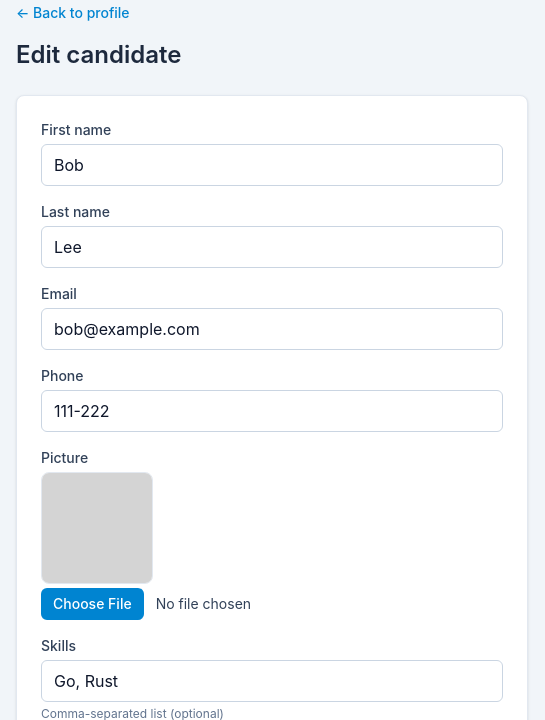
Scenario: EditCandidate › shows Zod validation for invalid email
Expected: the field showing "Bob" is shown, [41,144,503,186]
Step 1. Replace the text in the field labelled "Email" with "bad" → (272, 329), box [41,308,503,350]
(page scrolled)
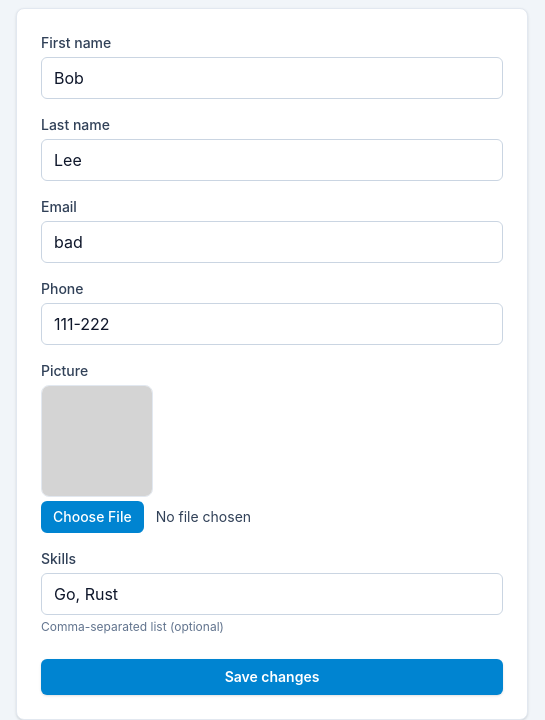
Step 2. Click the button "Save changes" → (272, 677), box [41,659,503,695]
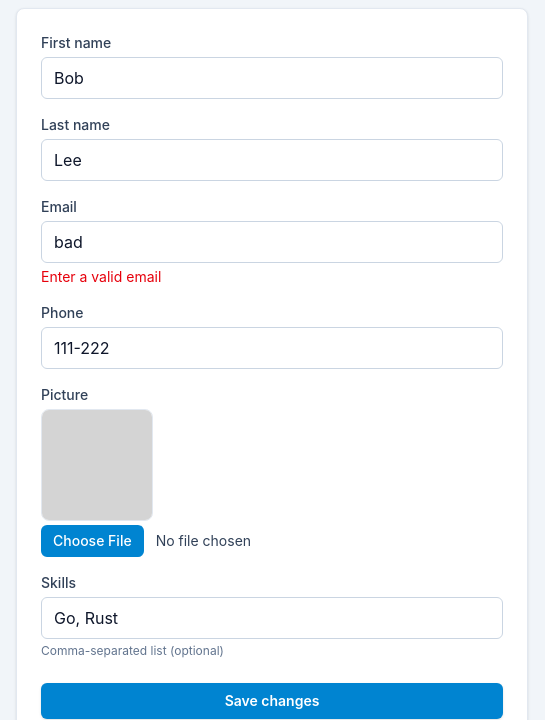
Now the text "Enter a valid email" is shown, box [41,268,161,285]
